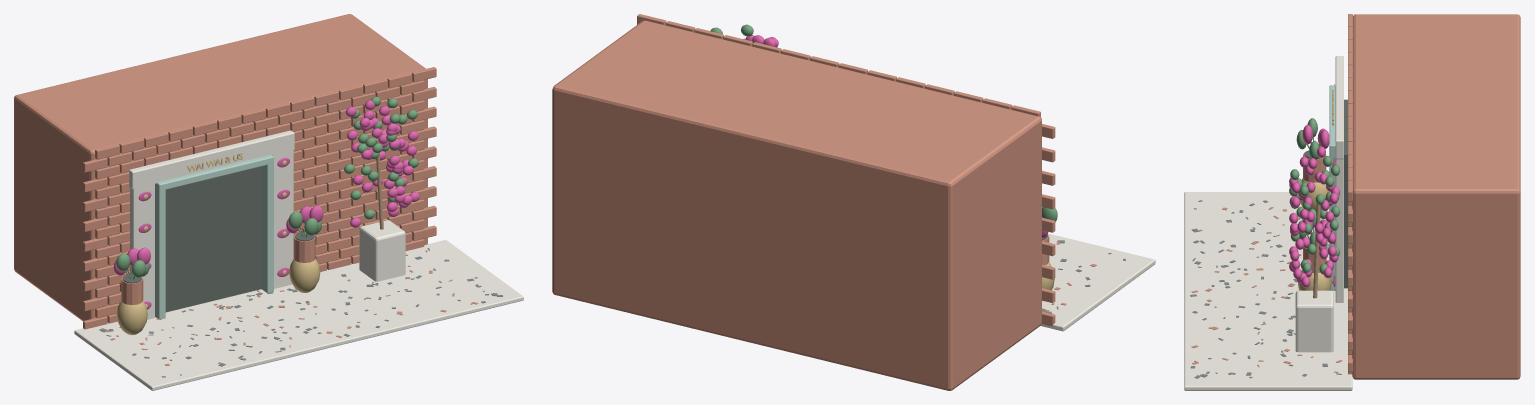
The model's file is waiwai-entrance.glb.
3 renders of one model, left to right at view 1: azimuth 30°, elevation 25°; view 2: azimuth 150°, elevation 25°; view 3: azimuth 270°, elevation 25°, orthographic. The views are drawn at different scales.
Parts seen in each view (by area): view 1: terracotta_tile.002, ivory_stucco.002, dark_interior.002, magenta.002, mint_paint.002, leaf_green.002, brass.002, charcoal.002; view 2: terracotta_tile.002, ivory_stucco.002; view 3: terracotta_tile.002, ivory_stucco.002, magenta.002, leaf_green.002, charcoal.002, dark_interior.002, brass.002, mint_paint.002, wood_door.002.
Boxes of the visible parts, left/top/right/bottom form: terracotta_tile.002: left=14, top=14, right=484, bottom=365; ivory_stucco.002: left=74, top=130, right=523, bottom=390; dark_interior.002: left=122, top=166, right=314, bottom=312; magenta.002: left=113, top=100, right=419, bottom=309; mint_paint.002: left=155, top=154, right=273, bottom=319; leaf_green.002: left=116, top=96, right=418, bottom=279; brass.002: left=116, top=153, right=320, bottom=335; charcoal.002: left=99, top=248, right=502, bottom=377; terracotta_tile.002: left=552, top=14, right=1096, bottom=390; ivory_stucco.002: left=1040, top=233, right=1155, bottom=331; terracotta_tile.002: left=1191, top=14, right=1520, bottom=379; ivory_stucco.002: left=1184, top=56, right=1352, bottom=390; magenta.002: left=1289, top=84, right=1340, bottom=287; leaf_green.002: left=1289, top=118, right=1340, bottom=274; charcoal.002: left=1190, top=200, right=1341, bottom=378; dark_interior.002: left=1304, top=99, right=1347, bottom=288; brass.002: left=1298, top=90, right=1333, bottom=290; mint_paint.002: left=1329, top=85, right=1335, bottom=290; wood_door.002: left=1313, top=203, right=1320, bottom=298.
Size of the model in its own units: 11 by 5.07 by 8.
